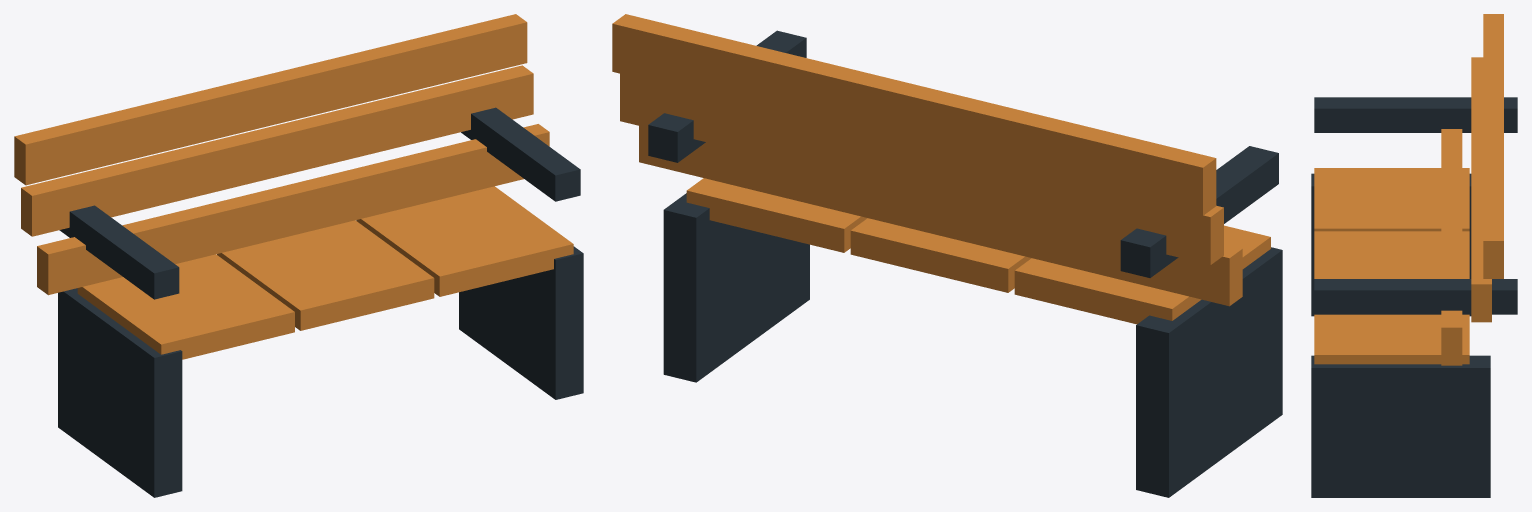
Rendered from hd_bench.gltf.
3 views of the same model, side by side, from view 1: azimuth 30°, elevation 25°; view 2: azimuth 150°, elevation 25°; view 3: azimuth 270°, elevation 25° (orthographic). The views are drawn at different scales.
Visible parts, largest first — view 1: back2, back1, back0, frame-0.72, seat1, seat2, seat0, frame0.72, arm-0.72, arm0.72; view 2: back2, back1, frame-0.72, back0, frame0.72, seat0, seat1, seat2, arm-0.72, arm0.72; view 3: frame0.72, seat0, seat2, arm0.72, seat1, arm-0.72, back2, back0, back1, frame-0.72.
Part boxes in pixels (x1=…): back2: x1=14, y1=14, x2=527, y2=185; back1: x1=21, y1=65, x2=533, y2=236; back0: x1=37, y1=124, x2=549, y2=295; frame-0.72: x1=58, y1=288, x2=182, y2=497; seat1: x1=217, y1=220, x2=434, y2=330; seat2: x1=356, y1=186, x2=573, y2=296; seat0: x1=77, y1=254, x2=294, y2=359; frame0.72: x1=459, y1=246, x2=583, y2=399; arm-0.72: x1=59, y1=205, x2=179, y2=299; arm0.72: x1=461, y1=107, x2=580, y2=201; back2: x1=612, y1=14, x2=1216, y2=215; back1: x1=620, y1=73, x2=1223, y2=265; frame-0.72: x1=1136, y1=247, x2=1282, y2=497; back0: x1=639, y1=126, x2=1242, y2=306; frame0.72: x1=663, y1=193, x2=809, y2=382; seat0: x1=1014, y1=225, x2=1270, y2=324; seat1: x1=850, y1=218, x2=1031, y2=292; seat2: x1=686, y1=178, x2=867, y2=252; arm-0.72: x1=1120, y1=146, x2=1278, y2=277; arm0.72: x1=648, y1=30, x2=806, y2=162; frame0.72: x1=1311, y1=355, x2=1490, y2=497; seat0: x1=1314, y1=168, x2=1469, y2=231; seat2: x1=1314, y1=314, x2=1469, y2=364; arm0.72: x1=1314, y1=279, x2=1517, y2=314; seat1: x1=1314, y1=231, x2=1469, y2=278; arm-0.72: x1=1314, y1=97, x2=1517, y2=132; back2: x1=1483, y1=14, x2=1503, y2=278; back0: x1=1441, y1=129, x2=1462, y2=365; back1: x1=1471, y1=57, x2=1491, y2=322; frame-0.72: x1=1311, y1=173, x2=1471, y2=316.
Size of the model in its own units: 1.8 by 1.01 by 0.69.
